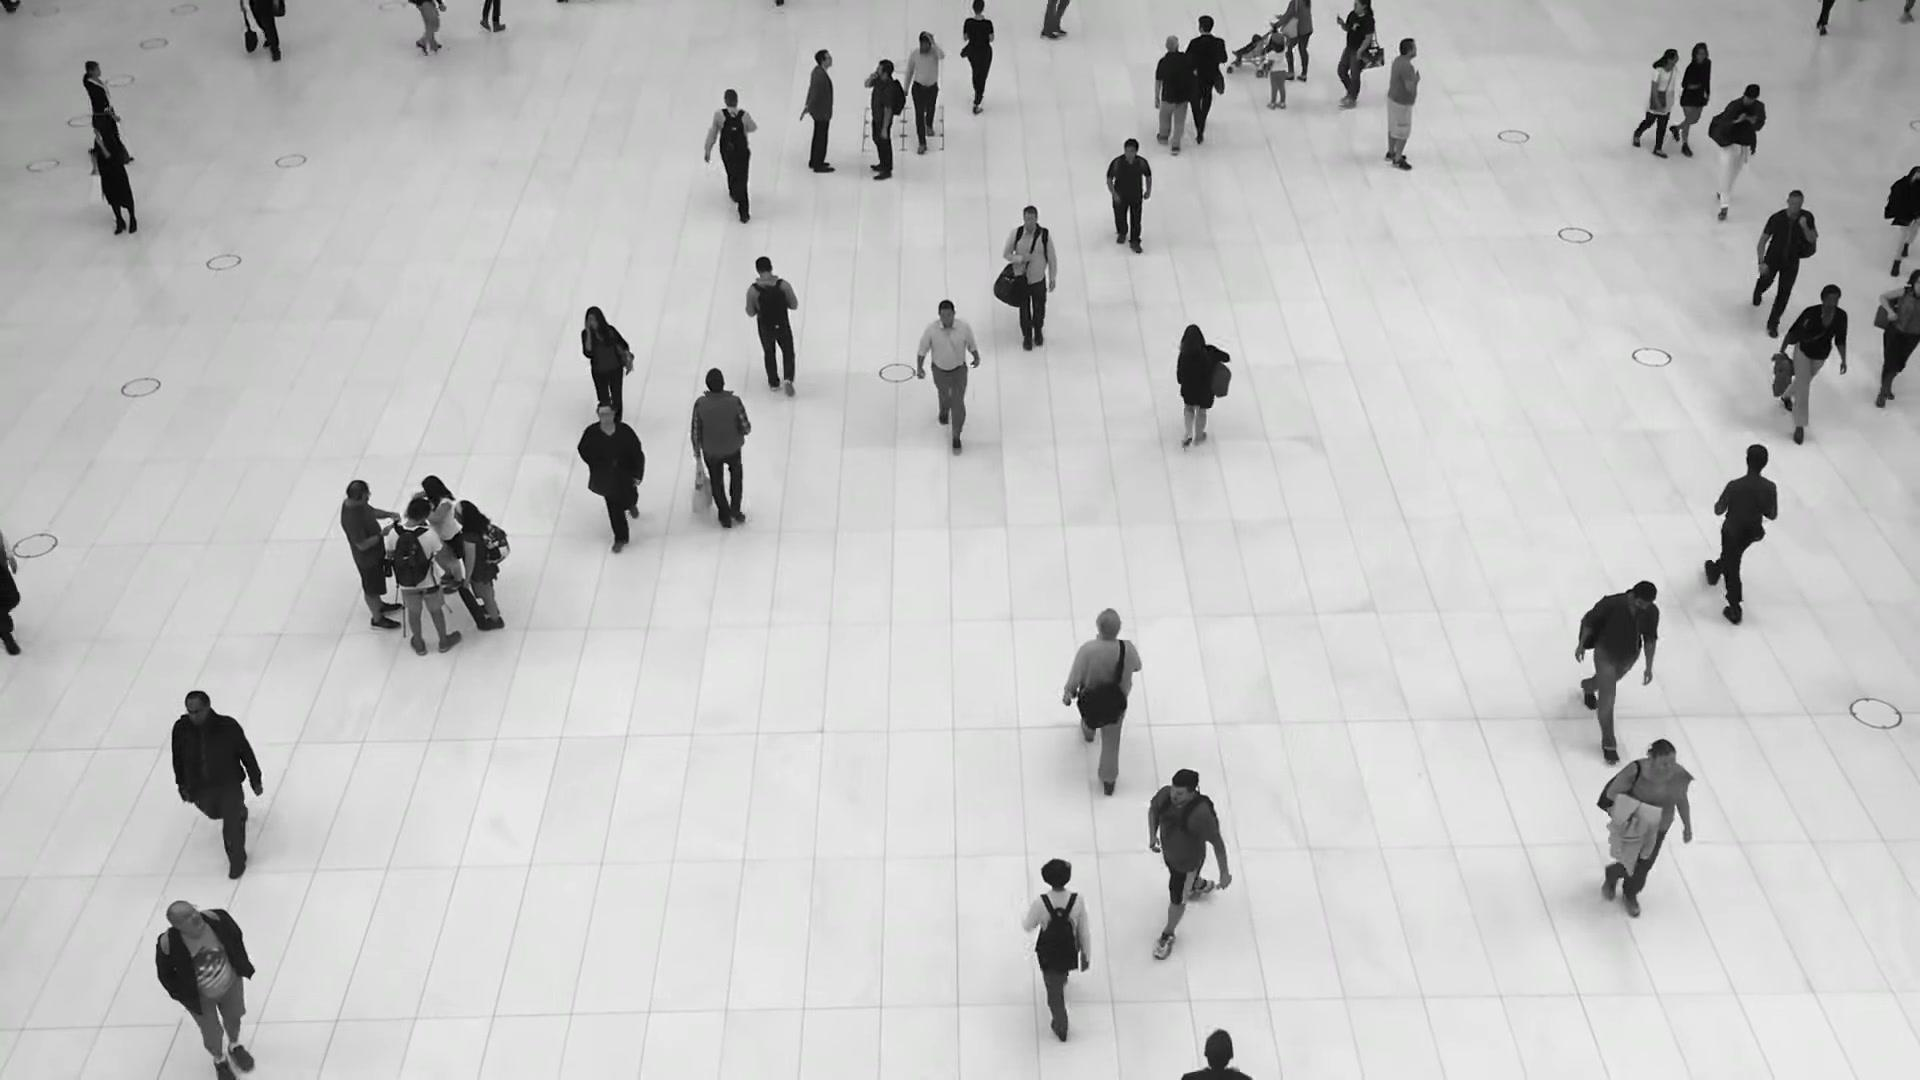person: (1594, 737, 1690, 932), (153, 899, 258, 1078), (170, 684, 258, 870), (1063, 607, 1142, 791), (1576, 576, 1659, 750), (1150, 765, 1226, 954), (1024, 862, 1096, 1052), (1706, 443, 1779, 618), (385, 498, 460, 656), (1773, 281, 1846, 437), (688, 371, 752, 541), (576, 399, 648, 547), (1749, 185, 1818, 331), (917, 297, 981, 447), (339, 479, 401, 632), (1002, 207, 1057, 359), (1706, 83, 1764, 219), (746, 256, 800, 401), (1866, 271, 1920, 413), (1170, 326, 1228, 454), (705, 89, 759, 222), (453, 499, 506, 632), (1104, 139, 1154, 256), (579, 305, 632, 415), (1183, 14, 1228, 139), (861, 58, 904, 181), (92, 118, 137, 235), (1153, 37, 1195, 159), (1329, 0, 1376, 112), (1383, 37, 1421, 171), (904, 27, 945, 149), (420, 475, 460, 596), (1634, 47, 1678, 156), (1671, 41, 1711, 156), (799, 49, 835, 174), (961, 2, 993, 117), (79, 60, 120, 148), (1272, 0, 1313, 85), (1264, 36, 1287, 110)
